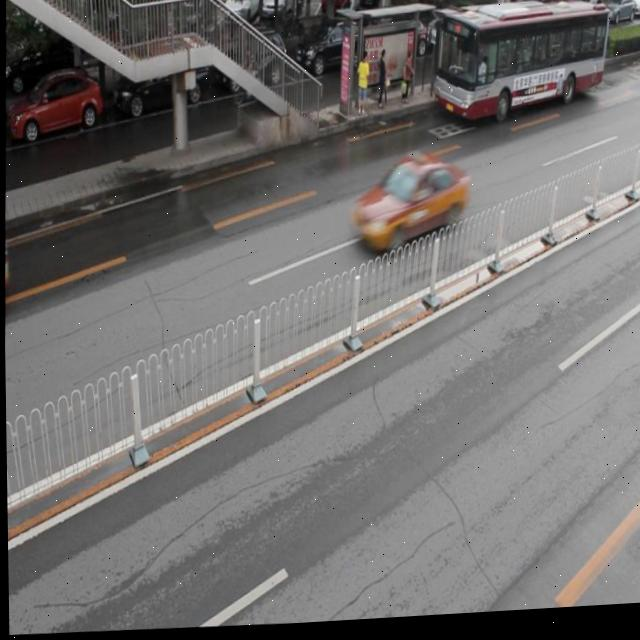car: (349, 151, 464, 261), (4, 65, 101, 140), (110, 51, 208, 115), (216, 26, 287, 96), (292, 15, 367, 81)
van: (430, 6, 607, 129)
